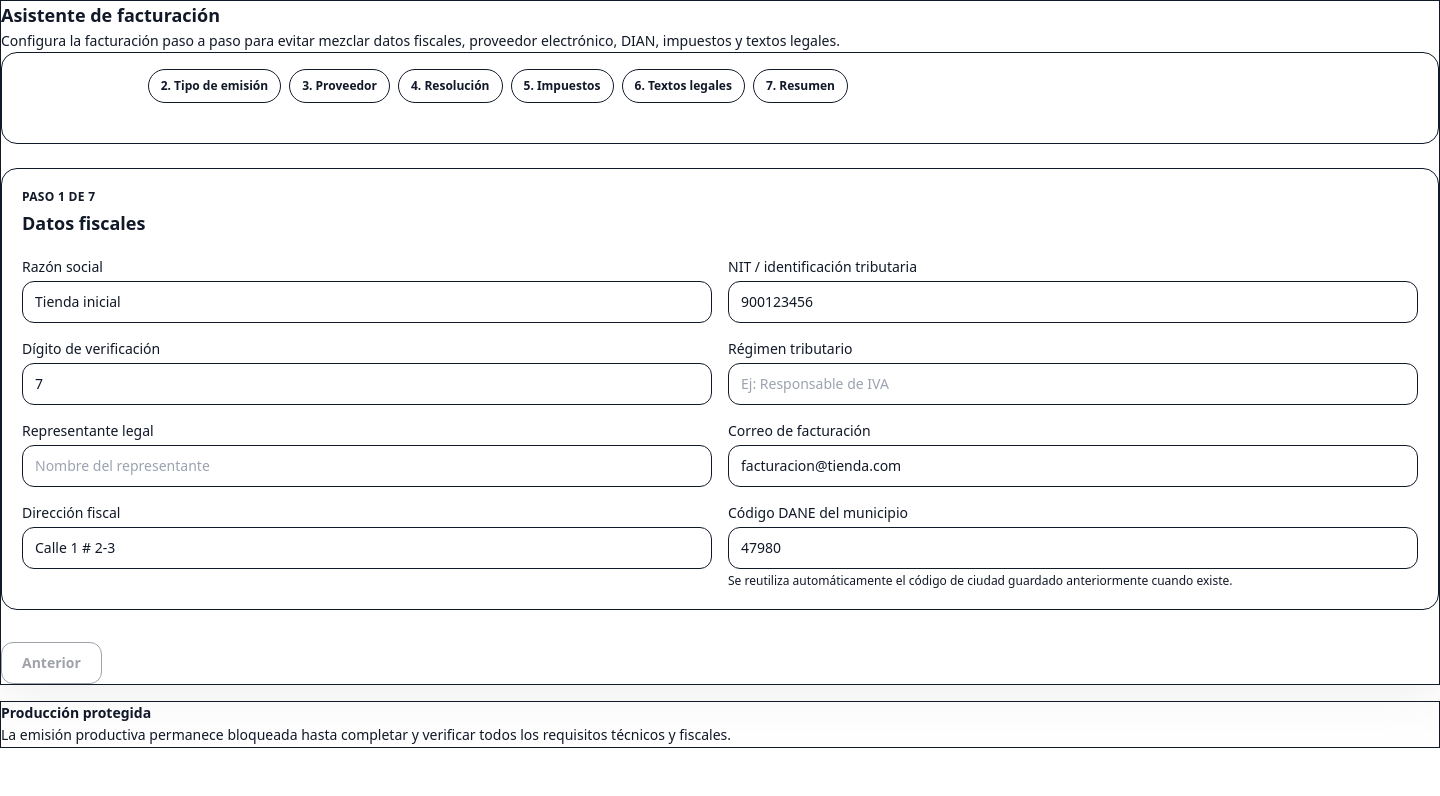
Test: FacturacionSection › elimina el aviso después de editar y guardar correctamente
The width and height of the screenshot is (1440, 796).
expect the text "Tienes cambios sin guardar." is not shown: met
Replace the text in the field showing "Tienda inicial" with "Tienda actualizada": {"x": 367, "y": 302} 22,281 -> 712,323
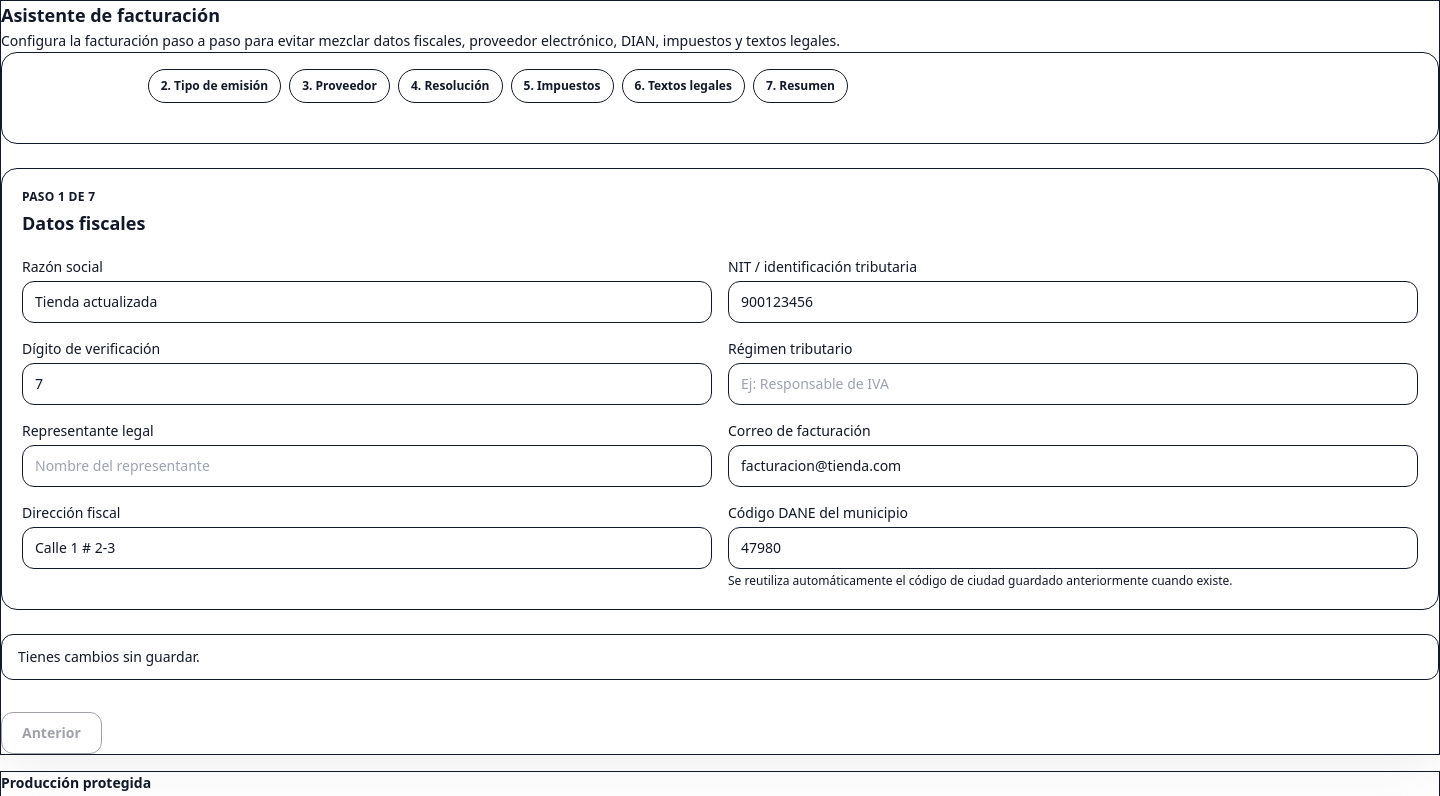
expect the text "Tienes cambios sin guardar." is shown: met, box 1,634 -> 1439,680
Click the button "Siguiente": {"x": 1385, "y": 733} 1331,712 -> 1439,754
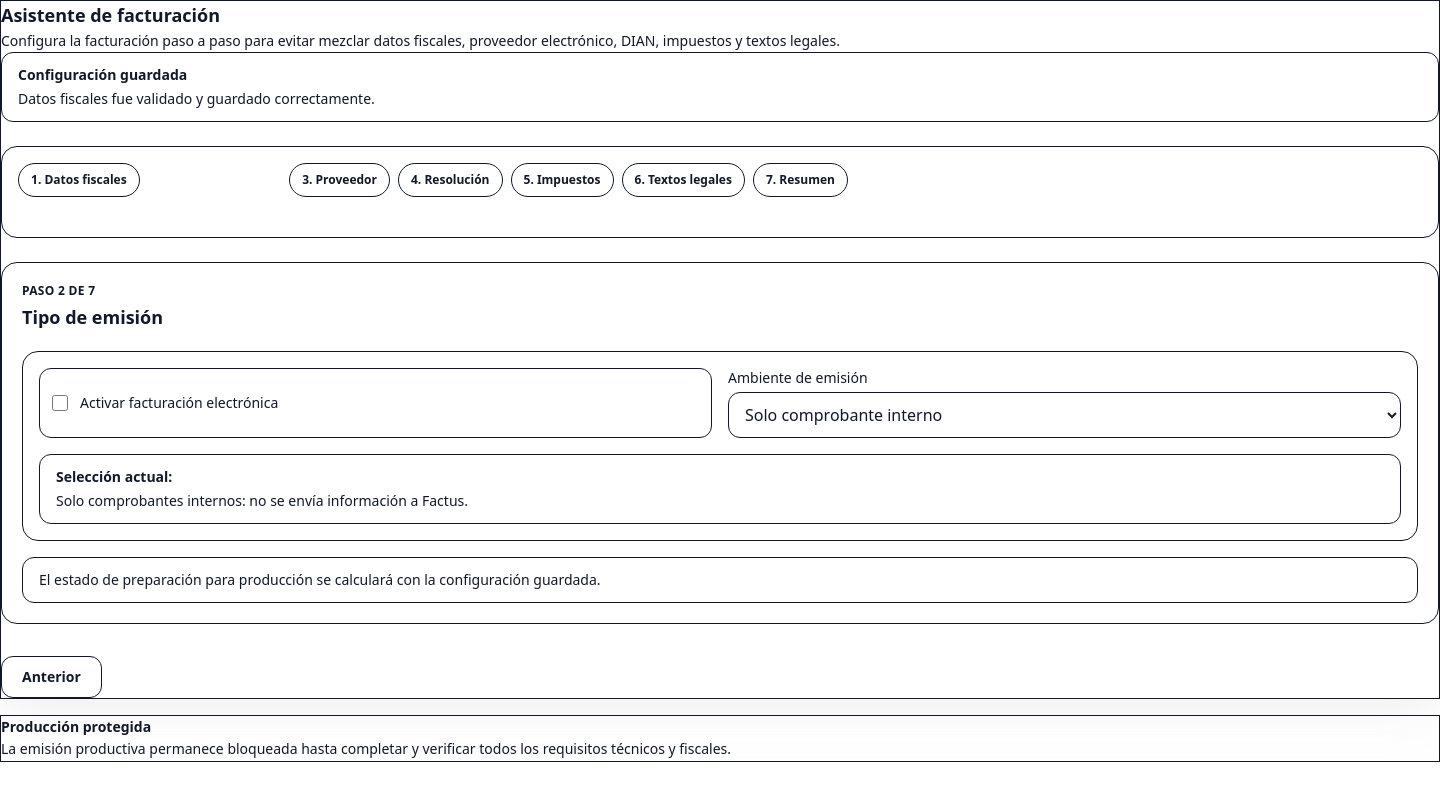
expect the text "Tienes cambios sin guardar." is gone: met
expect the text "Datos fiscales fue validado y guardado correctamente." is shown: met, box 18,89 -> 375,108
expect the text "Paso 2 de 7" is shown: met, box 22,282 -> 95,299
